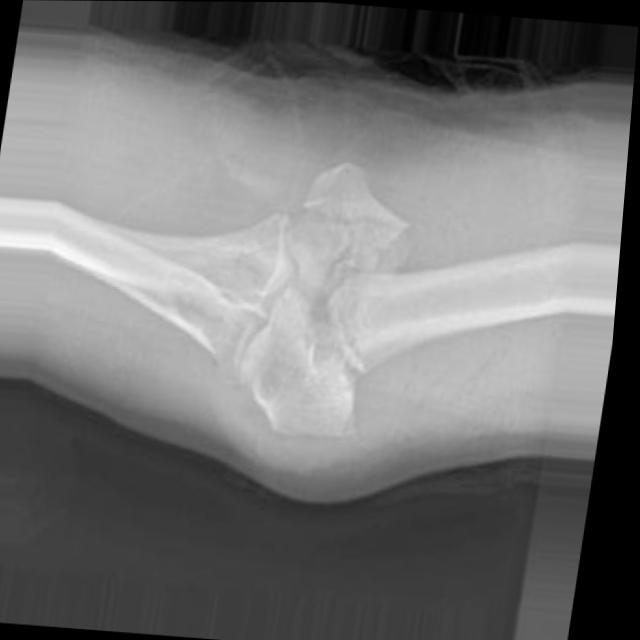fracture: (356, 204, 436, 281)
